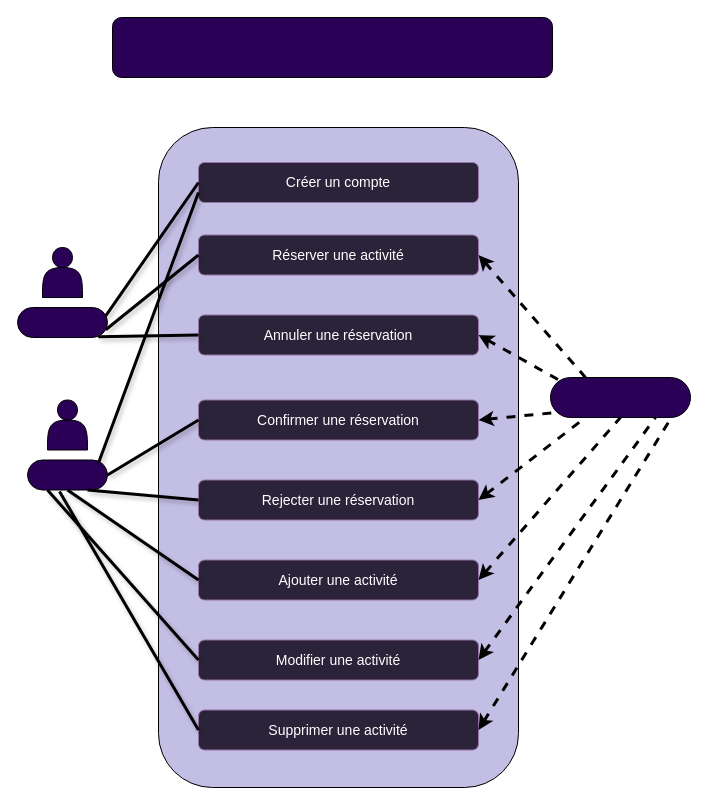
The diagram is 708 pixels wide and 805 high, and some of its shapes have lost their labels. Each missing label, with the centre of its shape:
Admin: [67,474]
Member: [62,322]
Se connecter: [620,397]
Systeme de Gestion d'un Salle de Sport (FitBook): [332,47]
